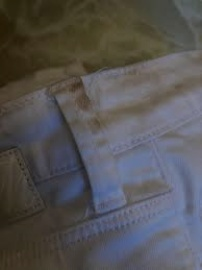earth: (123, 99, 155, 118), (71, 85, 91, 113), (91, 114, 113, 133), (173, 82, 194, 97)
